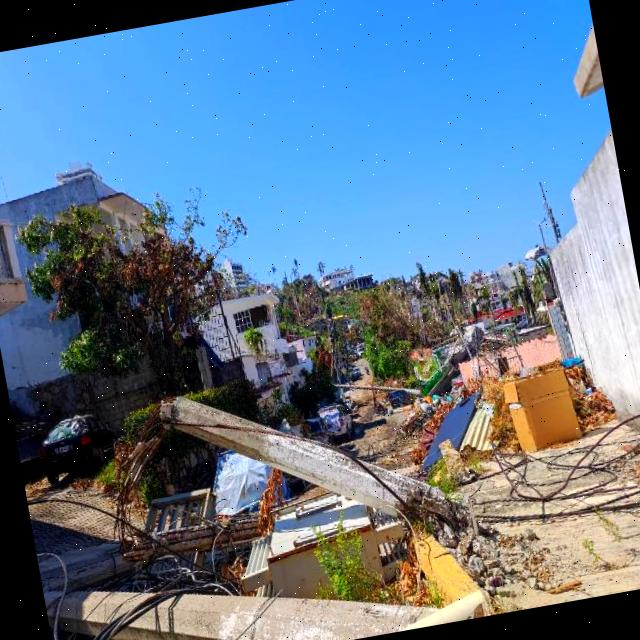Broken Pole: (42, 518, 439, 640), (158, 393, 454, 528), (343, 384, 420, 394)
